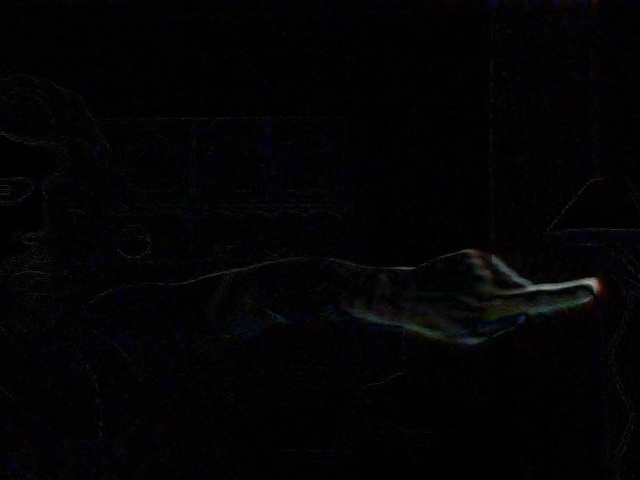hand_po: (391, 226, 614, 350)
